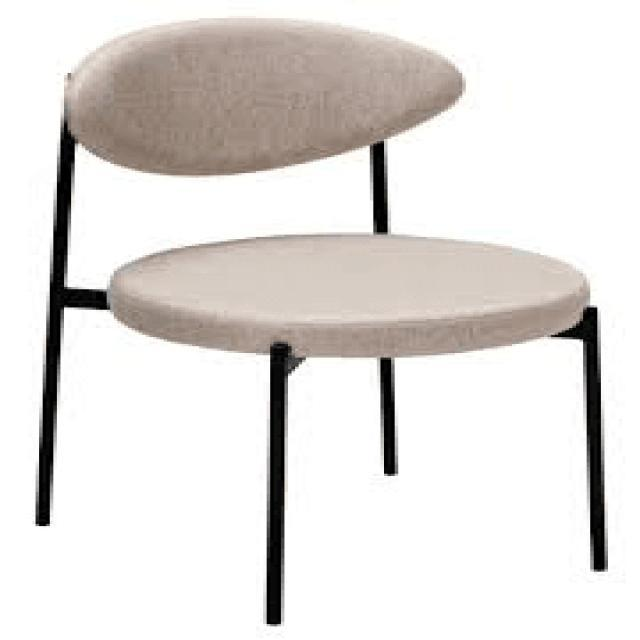chair: (21, 9, 614, 626), (61, 15, 612, 360)
